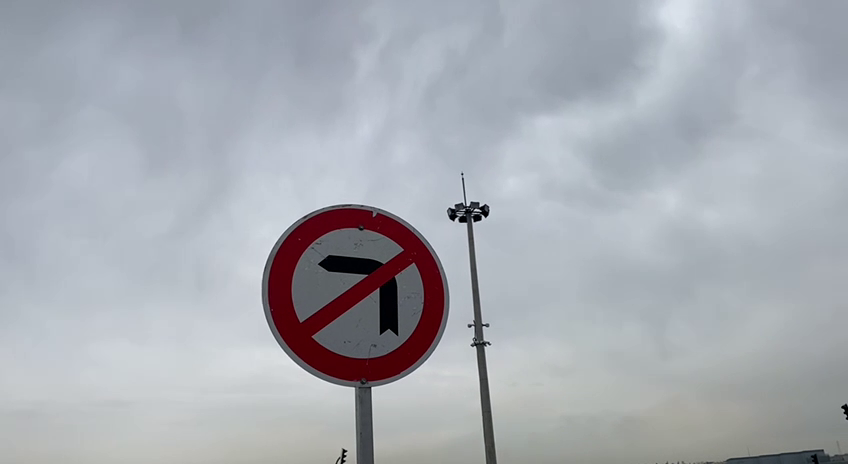noTurnLeft: (254, 199, 459, 393)
